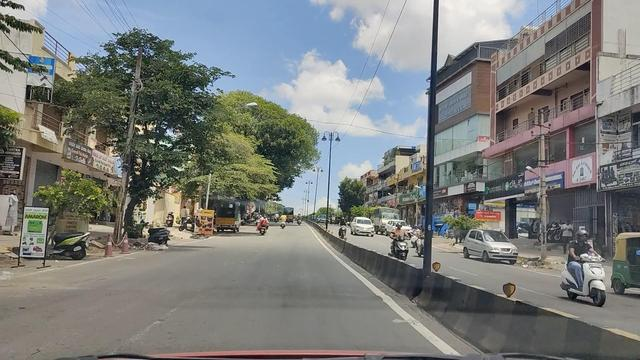HMV: (208, 189, 243, 234)
